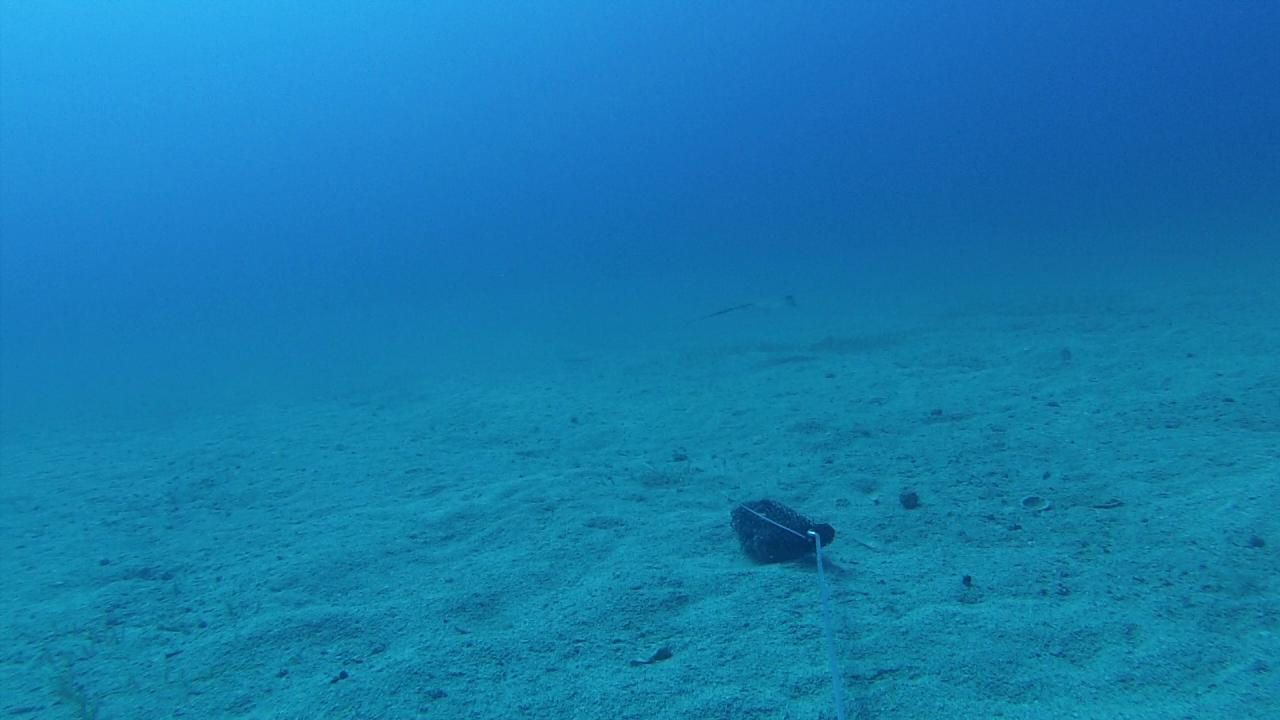dasyatis: (700, 292, 797, 320)
